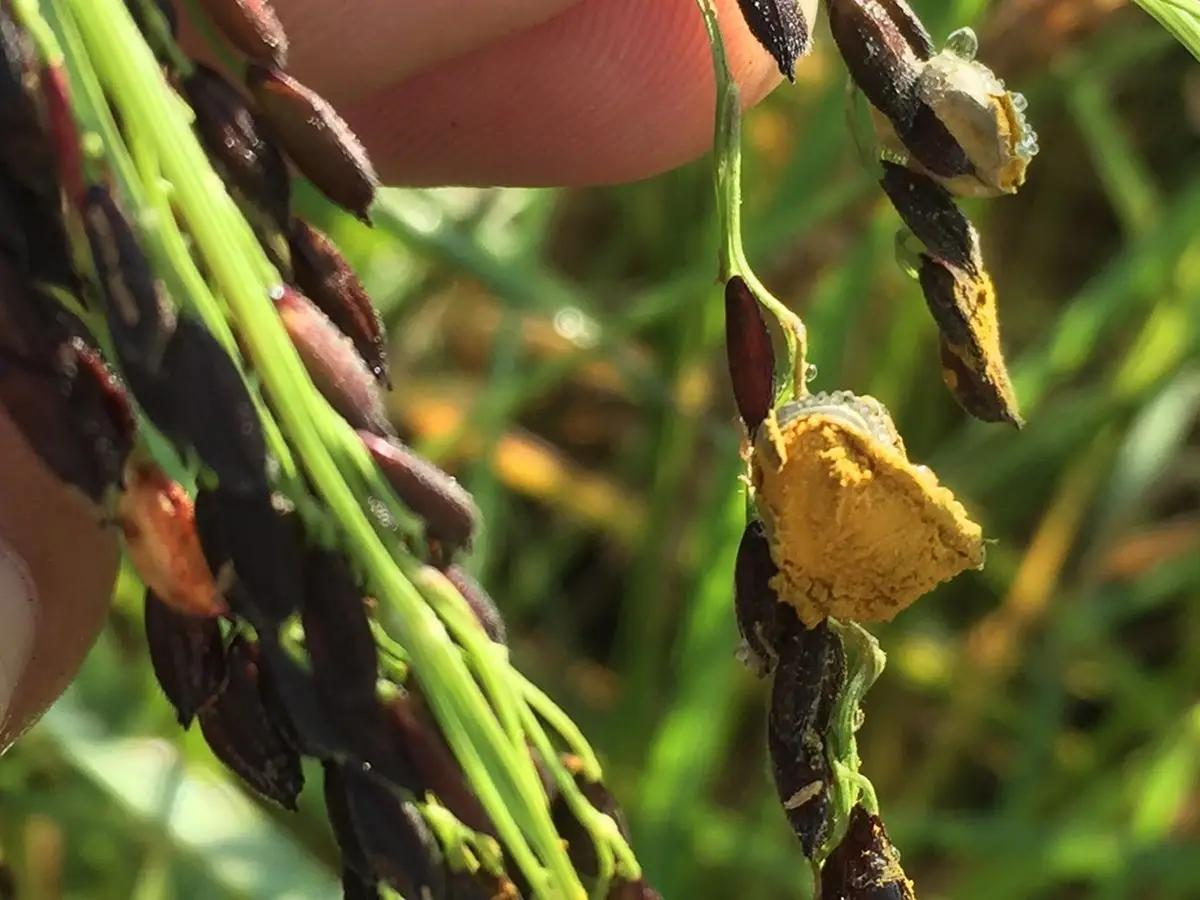False Smut: (725, 325, 1002, 668), (832, 0, 1038, 228)
